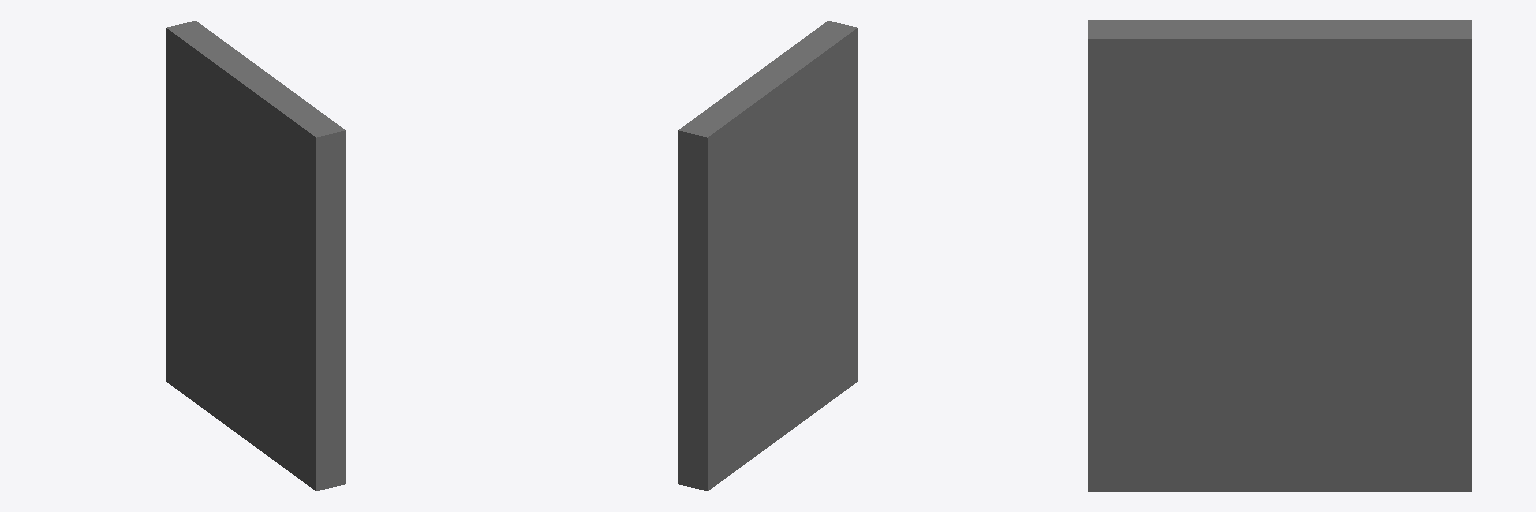
URDF robot description (panda):
<?xml version="1.0" encoding="utf-8"?>
<!-- =================================================================================== -->
<!-- |    This document was autogenerated by xacro from panda_arm.urdf.xacro           | -->
<!-- |    EDITING THIS FILE BY HAND IS NOT RECOMMENDED                                 | -->
<!-- =================================================================================== -->
<robot name="panda" xmlns:xacro="http://www.ros.org/wiki/xacro">
  <link name="panda_link0">
    <visual>
      <geometry>
        <mesh filename="package://franka_description/meshes/visual/link0.dae"/>
      </geometry>
    </visual>
    <collision>
      <geometry>
        <mesh filename="package://franka_description/meshes/collision/link0.stl"/>
      </geometry>
    </collision>
  </link>
  <link name="panda_link1">
    <visual>
      <geometry>
        <mesh filename="package://franka_description/meshes/visual/link1.dae"/>
      </geometry>
    </visual>
    <collision>
      <geometry>
        <mesh filename="package://franka_description/meshes/collision/link1.stl"/>
      </geometry>
    </collision>
  </link>
  <joint name="panda_joint1" type="revolute">
    <safety_controller k_position="100.0" k_velocity="40.0" soft_lower_limit="-2.8973" soft_upper_limit="2.8973"/>
    <origin rpy="0 0 0" xyz="0 0 0.333"/>
    <parent link="panda_link0"/>
    <child link="panda_link1"/>
    <axis xyz="0 0 1"/>
    <limit effort="87" lower="-2.8973" upper="2.8973" velocity="2.1750"/>
  </joint>
  <link name="panda_link2">
    <visual>
      <geometry>
        <mesh filename="package://franka_description/meshes/visual/link2.dae"/>
      </geometry>
    </visual>
    <collision>
      <geometry>
        <mesh filename="package://franka_description/meshes/collision/link2.stl"/>
      </geometry>
    </collision>
  </link>
  <joint name="panda_joint2" type="revolute">
    <safety_controller k_position="100.0" k_velocity="40.0" soft_lower_limit="-1.7628" soft_upper_limit="1.7628"/>
    <origin rpy="-1.57079632679 0 0" xyz="0 0 0"/>
    <parent link="panda_link1"/>
    <child link="panda_link2"/>
    <axis xyz="0 0 1"/>
    <limit effort="87" lower="-1.7628" upper="1.7628" velocity="2.1750"/>
  </joint>
  <link name="panda_link3">
    <visual>
      <geometry>
        <mesh filename="package://franka_description/meshes/visual/link3.dae"/>
      </geometry>
    </visual>
    <collision>
      <geometry>
        <mesh filename="package://franka_description/meshes/collision/link3.stl"/>
      </geometry>
    </collision>
  </link>
  <joint name="panda_joint3" type="revolute">
    <safety_controller k_position="100.0" k_velocity="40.0" soft_lower_limit="-2.8973" soft_upper_limit="2.8973"/>
    <origin rpy="1.57079632679 0 0" xyz="0 -0.316 0"/>
    <parent link="panda_link2"/>
    <child link="panda_link3"/>
    <axis xyz="0 0 1"/>
    <limit effort="87" lower="-2.8973" upper="2.8973" velocity="2.1750"/>
  </joint>
  <link name="panda_link4">
    <visual>
      <geometry>
        <mesh filename="package://franka_description/meshes/visual/link4.dae"/>
      </geometry>
    </visual>
    <collision>
      <geometry>
        <mesh filename="package://franka_description/meshes/collision/link4.stl"/>
      </geometry>
    </collision>
  </link>
  <joint name="panda_joint4" type="revolute">
    <safety_controller k_position="100.0" k_velocity="40.0" soft_lower_limit="-3.0718" soft_upper_limit="-0.0698"/>
    <origin rpy="1.57079632679 0 0" xyz="0.0825 0 0"/>
    <parent link="panda_link3"/>
    <child link="panda_link4"/>
    <axis xyz="0 0 1"/>
    <limit effort="87" lower="-3.0718" upper="-0.0698" velocity="2.1750"/>
  </joint>
  <link name="panda_link5">
    <visual>
      <geometry>
        <mesh filename="package://franka_description/meshes/visual/link5.dae"/>
      </geometry>
    </visual>
    <collision>
      <geometry>
        <mesh filename="package://franka_description/meshes/collision/link5.stl"/>
      </geometry>
    </collision>
  </link>
  <joint name="panda_joint5" type="revolute">
    <safety_controller k_position="100.0" k_velocity="40.0" soft_lower_limit="-2.8973" soft_upper_limit="2.8973"/>
    <origin rpy="-1.57079632679 0 0" xyz="-0.0825 0.384 0"/>
    <parent link="panda_link4"/>
    <child link="panda_link5"/>
    <axis xyz="0 0 1"/>
    <limit effort="12" lower="-2.8973" upper="2.8973" velocity="2.6100"/>
  </joint>
  <link name="panda_link6">
    <visual>
      <geometry>
        <mesh filename="package://franka_description/meshes/visual/link6.dae"/>
      </geometry>
    </visual>
    <collision>
      <geometry>
        <mesh filename="package://franka_description/meshes/collision/link6.stl"/>
      </geometry>
    </collision>
  </link>
  <joint name="panda_joint6" type="revolute">
    <safety_controller k_position="100.0" k_velocity="40.0" soft_lower_limit="-0.0175" soft_upper_limit="3.7525"/>
    <origin rpy="1.57079632679 0 0" xyz="0 0 0"/>
    <parent link="panda_link5"/>
    <child link="panda_link6"/>
    <axis xyz="0 0 1"/>
    <limit effort="12" lower="-0.0175" upper="3.7525" velocity="2.6100"/>
  </joint>
  <link name="panda_link7">
    <visual>
      <geometry>
        <mesh filename="package://franka_description/meshes/visual/link7.dae"/>
      </geometry>
    </visual>
    <collision>
      <geometry>
        <mesh filename="package://franka_description/meshes/collision/link7.stl"/>
      </geometry>
    </collision>
  </link>
  <joint name="panda_joint7" type="revolute">
    <safety_controller k_position="100.0" k_velocity="40.0" soft_lower_limit="-2.8973" soft_upper_limit="2.8973"/>
    <origin rpy="1.57079632679 0 0" xyz="0.088 0 0"/>
    <parent link="panda_link6"/>
    <child link="panda_link7"/>
    <axis xyz="0 0 1"/>
    <limit effort="12" lower="-2.8973" upper="2.8973" velocity="2.6100"/>
  </joint>
 <link name="panda_board">
    <visual>
      <geometry>
<!-- 10.4 inch feather touch panel with size 228.2mm x 175.4; active Area: 216.2x164.6 -->
        <box size="0.2282 0.1754 0.02"/>
      </geometry>
      <material name="boardmat">
        <color rgba="0.5 0.5 0.5 1"/>
      </material>
    </visual>
    <collision>
      <geometry>
        <box size="0.2282 0.1754 0.02"/>
      </geometry>
    </collision>
  </link>
  <joint name="panda_joint8" type="fixed">
    <origin rpy="0 0 0" xyz="0 0 0.107"/>
    <parent link="panda_link7"/>
    <child link="panda_board"/>
    <axis xyz="0 0 0"/>
  </joint>
 
</robot>

--- Facts derived from the render (not from the file) ---
3 views of the same robot in one strip: view 1: azimuth 30°, elevation 25°; view 2: azimuth 150°, elevation 25°; view 3: azimuth 270°, elevation 25° (orthographic).
Robot: panda — 9 links, 8 joints (7 revolute, 1 fixed); root link panda_link0; default pose: all joints at 0 but 1 set to mid-range because 0 is outside their limits (panda_joint4 = -1.57).
Visible links, largest first — view 1: panda_board; view 2: panda_board; view 3: panda_board.
Link boxes in pixels (x1,y1,x2,y2): panda_board: (166, 21, 345, 490); panda_board: (678, 21, 857, 490); panda_board: (1088, 20, 1471, 491).
Size in the robot's own frame: 0.02 by 0.1754 by 0.2282 metres.
Meshes: 8 distinct files referenced, 0 mesh visuals loaded (none loaded); not drawn: 8 (reference not matched to a file when rendering).